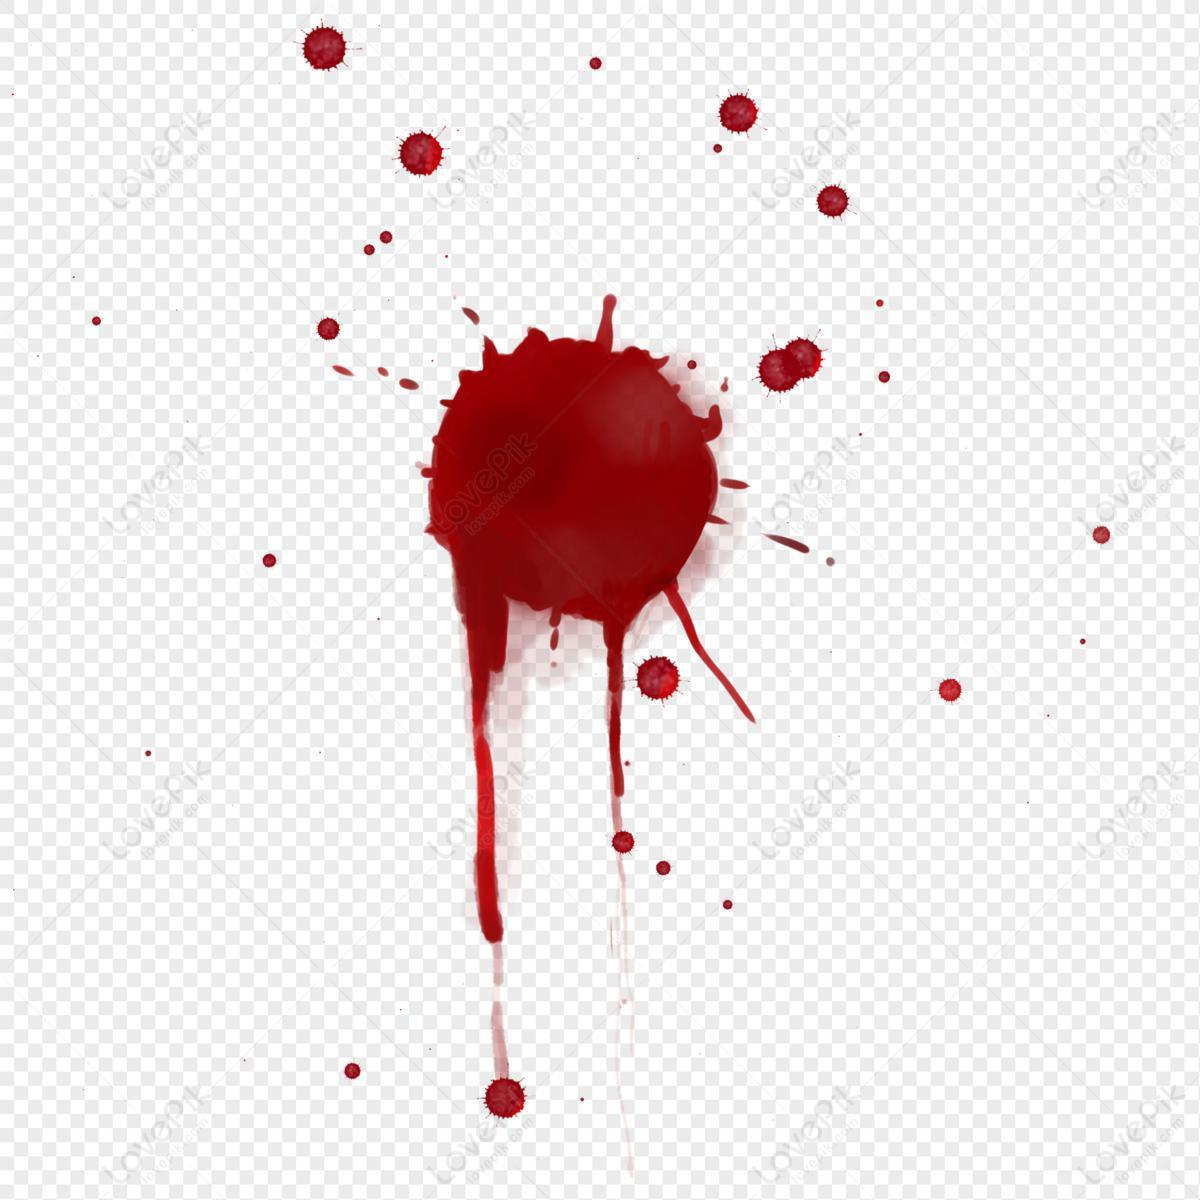Fire: (415, 293, 756, 944), (753, 336, 824, 395), (395, 130, 445, 178), (301, 22, 348, 71), (635, 655, 680, 701), (481, 1076, 527, 1119), (718, 92, 759, 134), (816, 184, 851, 216), (316, 316, 340, 340)
